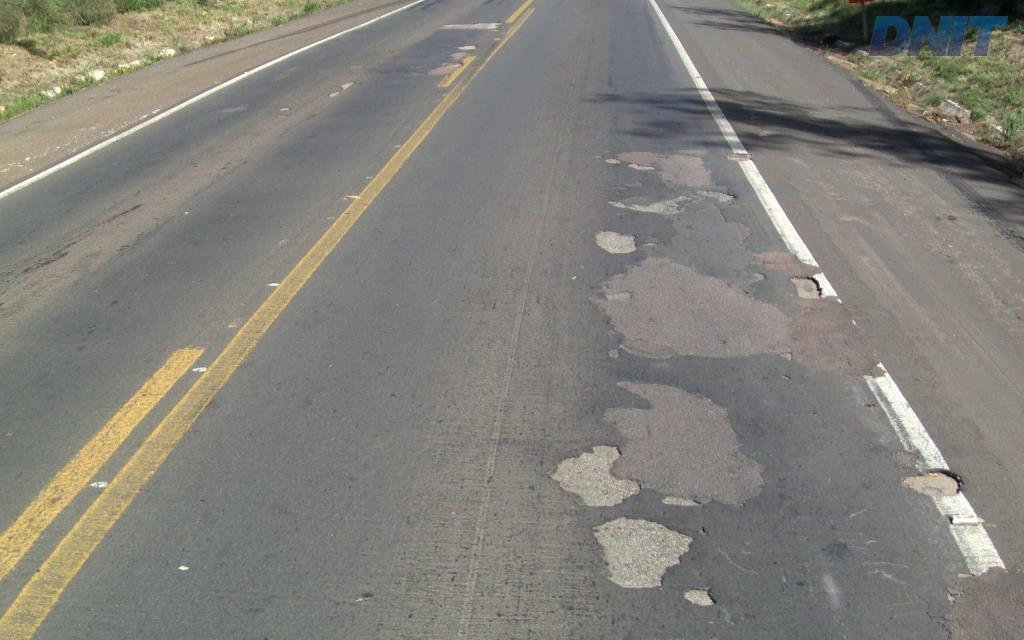pothole: (543, 438, 691, 594), (590, 226, 642, 255), (786, 271, 823, 303), (677, 584, 719, 610), (690, 186, 736, 204), (661, 492, 704, 507)
